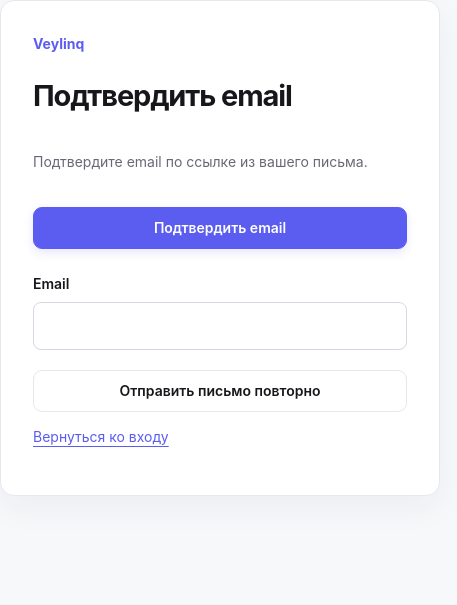
Test: shows safe EMAIL_TOKEN_USED state and resend
The width and height of the screenshot is (457, 605).
What coordinates should you click on to do the following:
click the button "Подтвердить email"
I would click on:
 (220, 228)
Its box is [33,207,407,249].
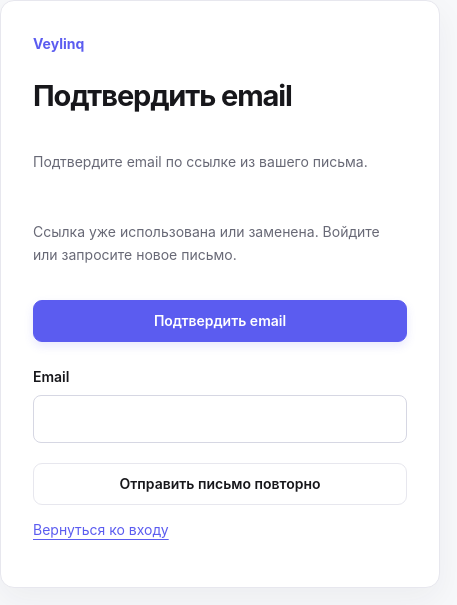
Check: the button "Отправить письмо повторно" is shown, box [33,463,407,505]
Check: the message "Ссылка уже использована или заменена. Войдите или запросите новое письмо." is shown, box [33,221,407,266]
